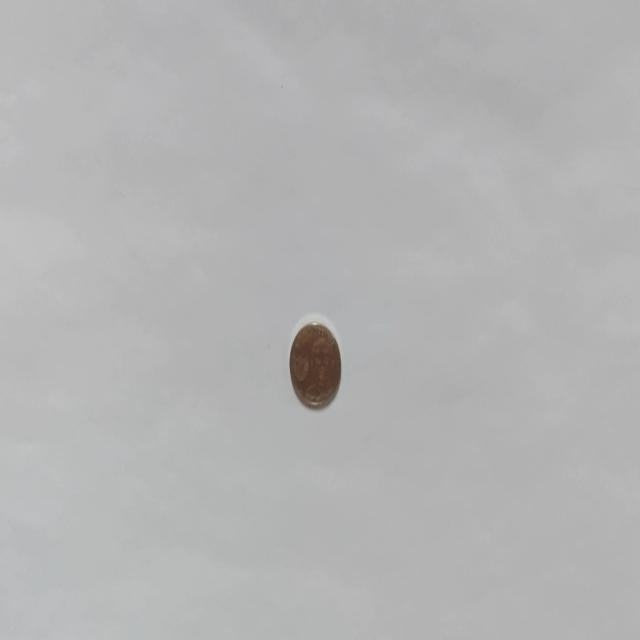seribu rupiah koin: (288, 314, 342, 410)
